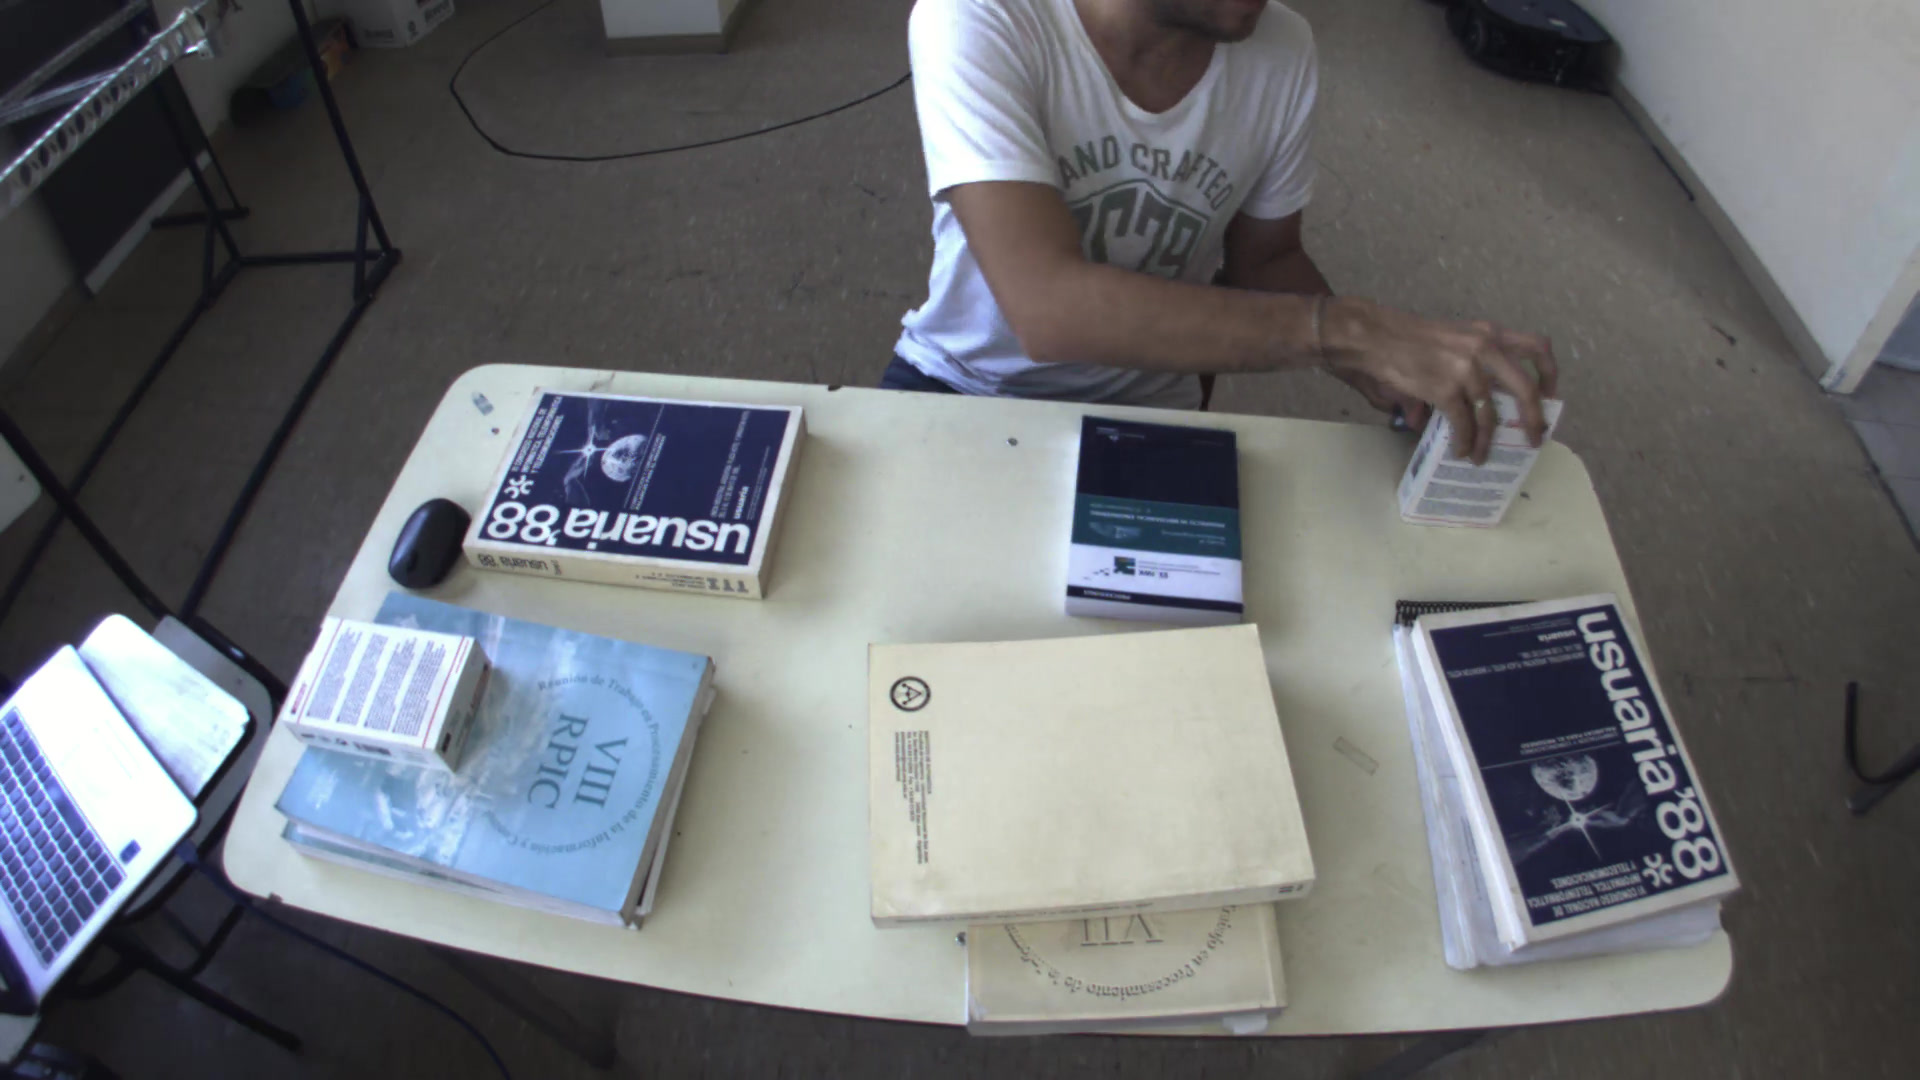hand: (1352, 301, 1584, 458)
